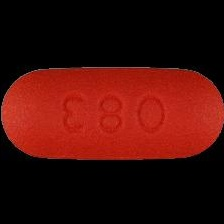35356-660: (0, 0, 224, 224)
